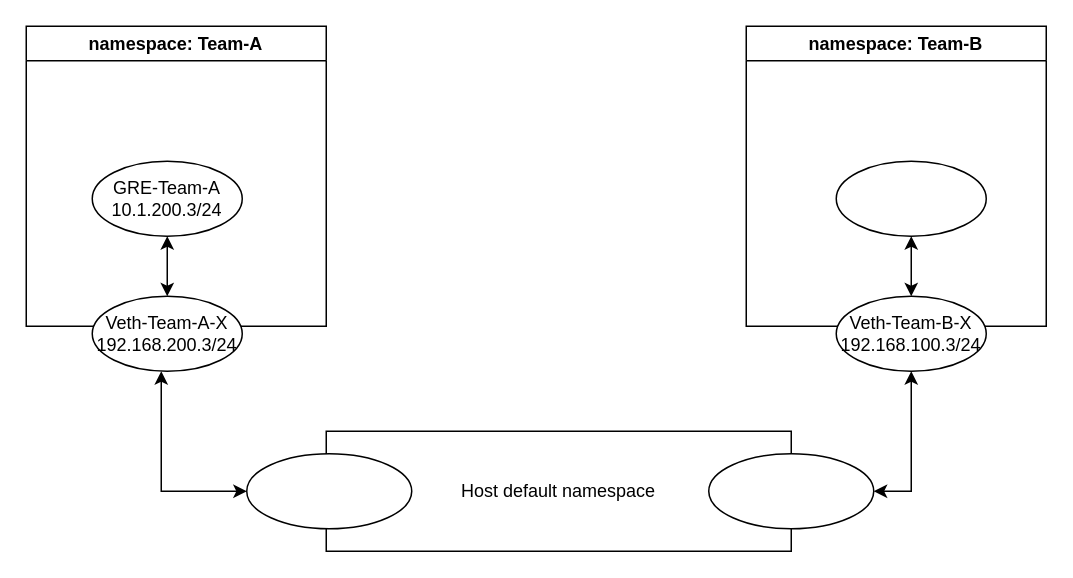
Some shapes in this 1073 by 578 pixel diagram are drawn without their labels. The shapes that lost their labels are listed below. From the top down, each one's centre as x and y in pixels, then its label:
At [910,198]: "GRE-Team-B 10.1.100.3/24".
At [328,490]: "Veth-Team-A-Y 192.168.200.2/24".
At [790,490]: "Veth-Team-B-Y 192.168.100.2/24".
